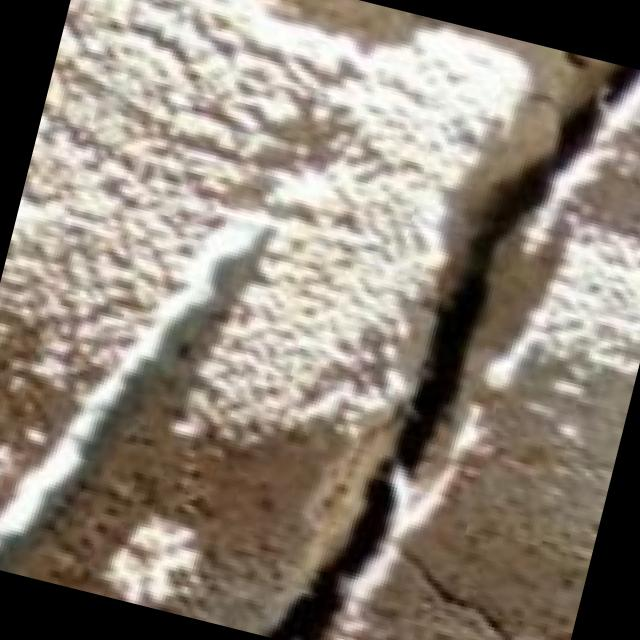crack: (252, 15, 640, 640)
